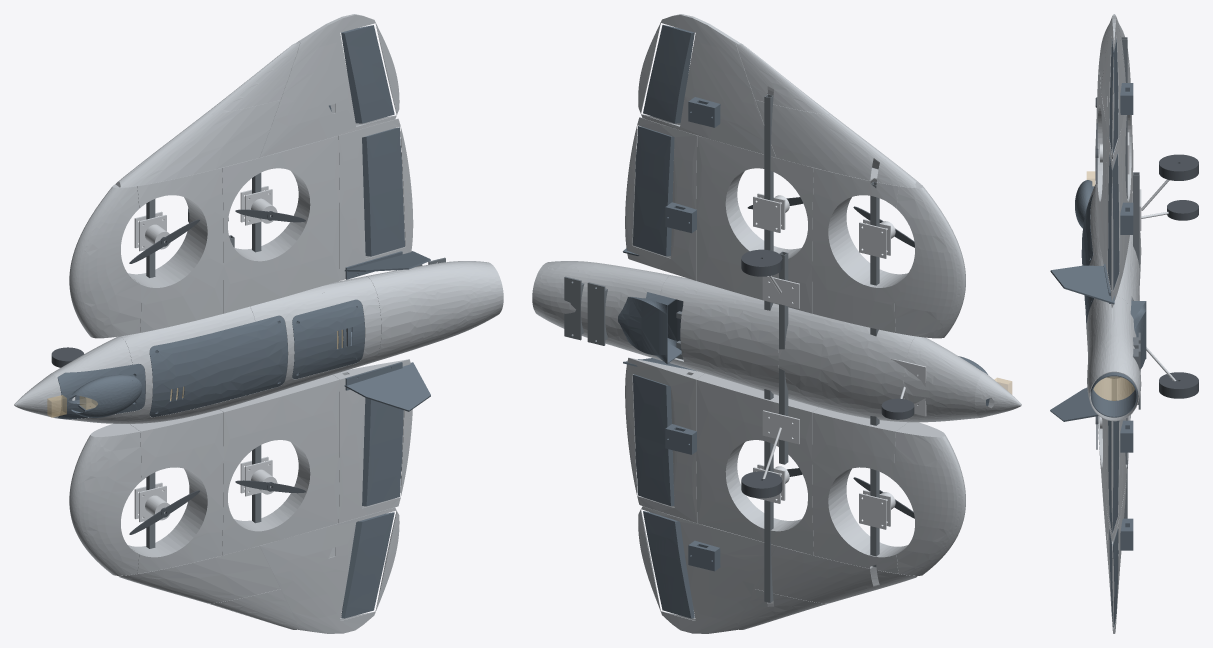
3 views of the same model, side by side, from view 1: azimuth 30°, elevation 25°; view 2: azimuth 150°, elevation 25°; view 3: azimuth 270°, elevation 25° (orthographic).
Parts seen in each view (by area): view 1: WLC_hollow_wing, WRC_hollow_wing, H1_service_cover, WLB_hollow_wing, WRB_hollow_wing, F4_hollow_body, WRF_falcon_wing, WLF_falcon_wing, WLA_hollow_wing, WRA_hollow_wing, WRE1_falcon_wing, WLE1_falcon_wing (+17 smaller); view 2: WLC_hollow_wing, WRC_hollow_wing, F2_hollow_body, WLB_hollow_wing, WRB_hollow_wing, F3_hollow_body, WLA_hollow_wing, WRF_falcon_wing, WRA_hollow_wing, WLF_falcon_wing, WRE1_falcon_wing, F1_hollow_body (+23 smaller); view 3: F4_hollow_body, WRC_hollow_wing, WRF_falcon_wing, FIN_R, WRD_hollow_wing, F3_hollow_body, FLAP_R, FLAP_L, D2_tail_nozzle, WLD_hollow_wing, WLF_falcon_wing, PURCHASE_main_wheel_1 (+19 smaller).
Part boxes in pixels (x1,y1,x2,y2): WLC_hollow_wing: (220, 374, 339, 555); WRC_hollow_wing: (222, 135, 339, 313); H1_service_cover: (149, 315, 287, 417); WLB_hollow_wing: (128, 409, 223, 573); WRB_hollow_wing: (128, 168, 223, 332); F4_hollow_body: (366, 261, 503, 362); WRF_falcon_wing: (259, 14, 399, 157); WLF_falcon_wing: (259, 507, 399, 633); WLA_hollow_wing: (69, 424, 141, 575); WRA_hollow_wing: (69, 184, 141, 338); WRE1_falcon_wing: (115, 100, 280, 187); WLE1_falcon_wing: (118, 546, 280, 603); WLC_hollow_wing: (696, 373, 818, 555); WRC_hollow_wing: (696, 135, 813, 313); F2_hollow_body: (778, 307, 915, 422); WLB_hollow_wing: (812, 407, 907, 573); WRB_hollow_wing: (812, 168, 907, 332); F3_hollow_body: (660, 275, 778, 395); WLA_hollow_wing: (894, 422, 965, 575); WRF_falcon_wing: (638, 14, 776, 157); WRA_hollow_wing: (894, 184, 965, 338); WLF_falcon_wing: (638, 506, 776, 633); WRE1_falcon_wing: (755, 100, 920, 187); F1_hollow_body: (903, 336, 1021, 422); F4_hollow_body: (1087, 296, 1141, 421); WRC_hollow_wing: (1096, 74, 1132, 272); WRF_falcon_wing: (1101, 16, 1125, 159); FIN_R: (1050, 264, 1114, 304); WRD_hollow_wing: (1105, 131, 1122, 307); F3_hollow_body: (1084, 235, 1139, 333); FLAP_R: (1108, 154, 1119, 290); FLAP_L: (1108, 420, 1119, 533); D2_tail_nozzle: (1090, 372, 1137, 417); WLD_hollow_wing: (1105, 419, 1122, 541); WLF_falcon_wing: (1101, 475, 1126, 633); PURCHASE_main_wheel_1: (1159, 154, 1198, 180).
Bounding box in the file's own units: 810 × 1000 × 223.
